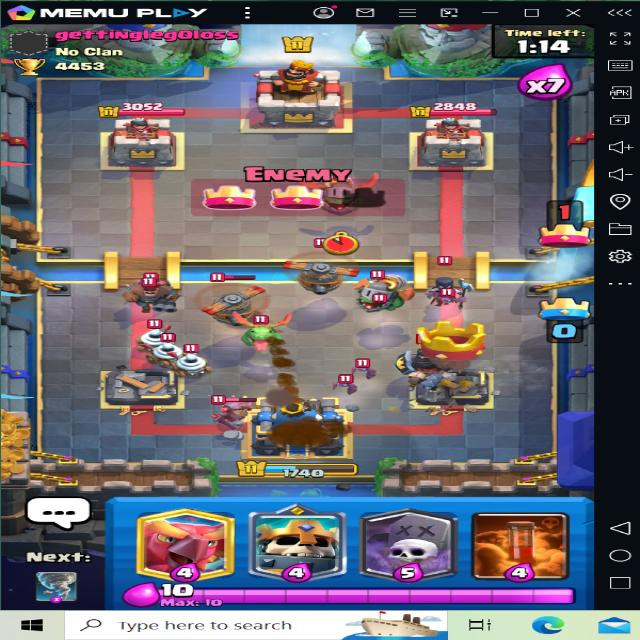baby-dragon: (230, 311, 298, 345)
bats: (327, 369, 360, 394), (352, 355, 382, 373), (431, 290, 463, 306)
dark-prince: (394, 335, 459, 388)
flying-machine: (185, 275, 274, 330), (283, 236, 357, 292)
hunter: (126, 270, 188, 309)
inferno-dragon: (307, 167, 378, 218), (347, 266, 400, 318)
mini-pekka: (206, 394, 258, 424), (134, 275, 162, 289)
night-witch: (421, 268, 472, 312)
zappie: (175, 344, 212, 374), (132, 322, 172, 348), (149, 338, 184, 367)
